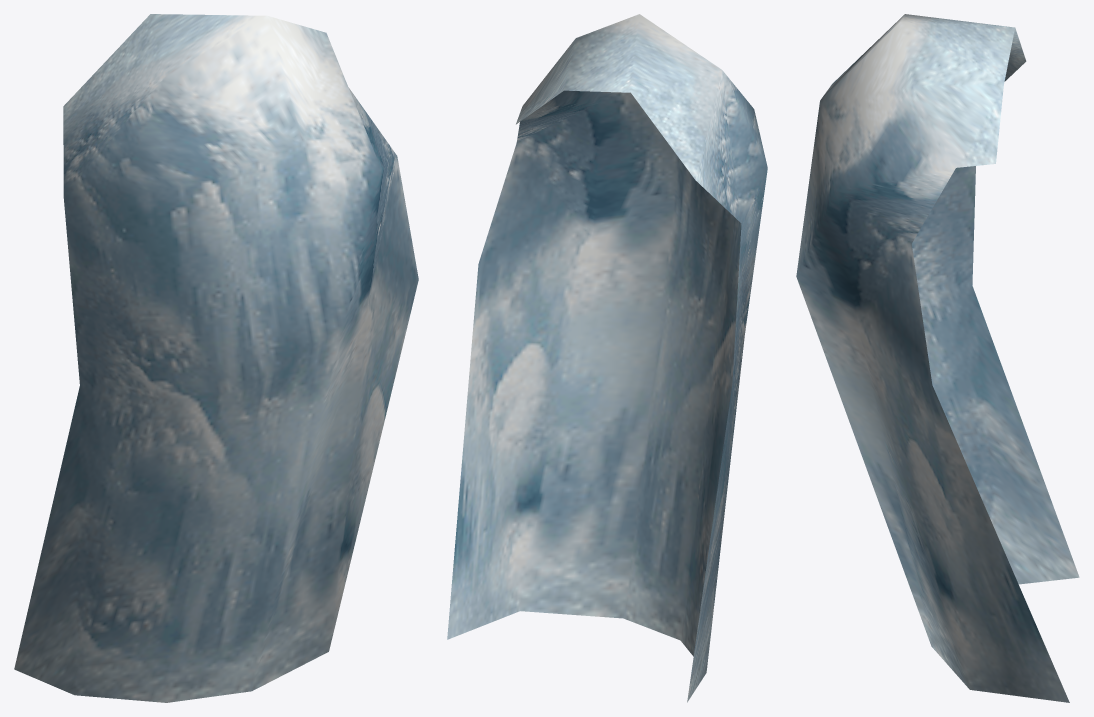
The picture shows the model from 3 angles, left to right: view 1: azimuth 30°, elevation 25°; view 2: azimuth 150°, elevation 25°; view 3: azimuth 270°, elevation 25°; orthographic projection. The views are drawn at different scales.
Visible parts, largest first — view 1: wj46; view 2: wj46; view 3: wj46.
Part boxes in pixels (x1=…): wj46: x1=14, y1=14, x2=418, y2=702; wj46: x1=447, y1=14, x2=767, y2=702; wj46: x1=796, y1=14, x2=1079, y2=702.
Bounding box in the file's own units: 733 × 1462 × 602.
Materials: 1 (1 with a texture image).
